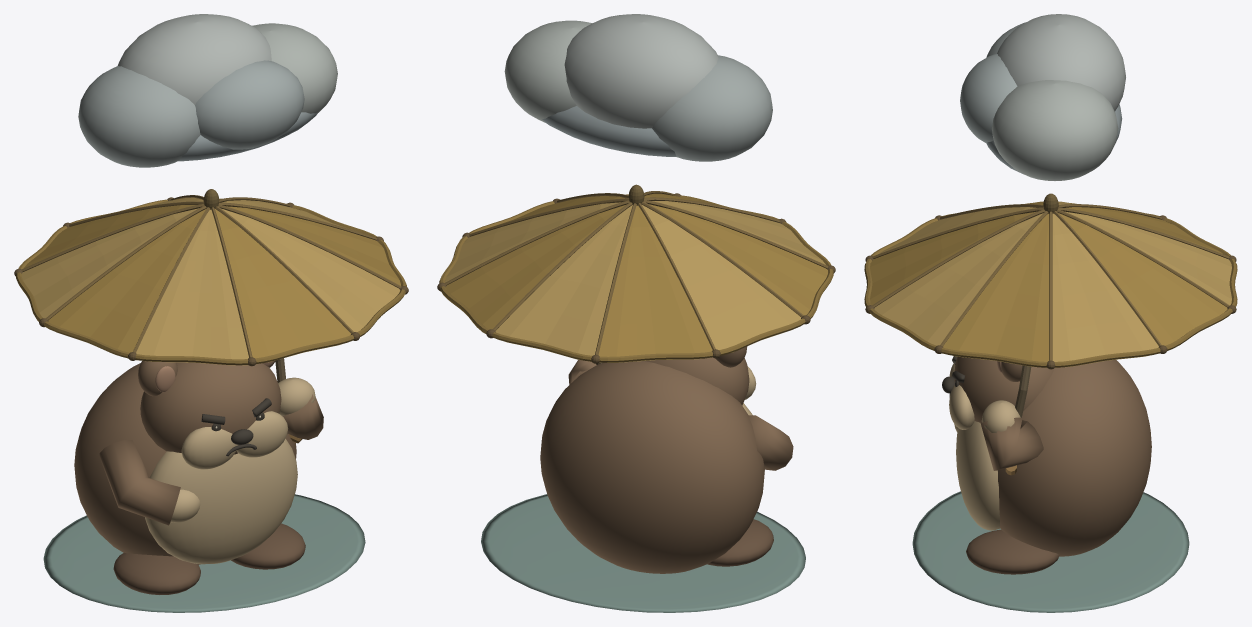
The model's file is rain-grump.glb.
The picture shows the model from 3 angles, left to right: view 1: azimuth 30°, elevation 25°; view 2: azimuth 150°, elevation 25°; view 3: azimuth 270°, elevation 25°; orthographic projection. The views are drawn at different scales.
Parts seen in each view (by area): view 1: rain_Umbrella_Mesh, discovery_Motion.007_Mesh, rain_Cloud_Mesh, discovery_Head.007_Mesh; view 2: discovery_Motion.007_Mesh, rain_Umbrella_Mesh, rain_Cloud_Mesh, discovery_Head.007_Mesh; view 3: rain_Umbrella_Mesh, discovery_Motion.007_Mesh, rain_Cloud_Mesh, discovery_Head.007_Mesh.
Part boxes in pixels (x1,y1,x2,y2): rain_Umbrella_Mesh: [14, 189, 408, 443]; discovery_Motion.007_Mesh: [43, 363, 365, 612]; rain_Cloud_Mesh: [78, 14, 337, 167]; discovery_Head.007_Mesh: [138, 360, 288, 469]; discovery_Motion.007_Mesh: [481, 359, 805, 612]; rain_Umbrella_Mesh: [437, 184, 835, 364]; rain_Cloud_Mesh: [504, 14, 772, 161]; discovery_Head.007_Mesh: [645, 346, 756, 405]; rain_Umbrella_Mesh: [864, 193, 1237, 475]; discovery_Motion.007_Mesh: [912, 359, 1189, 612]; rain_Cloud_Mesh: [960, 14, 1125, 180]; discovery_Head.007_Mesh: [942, 356, 1054, 429].
Size of the model in its own units: 1.97 by 2.93 by 1.89.
